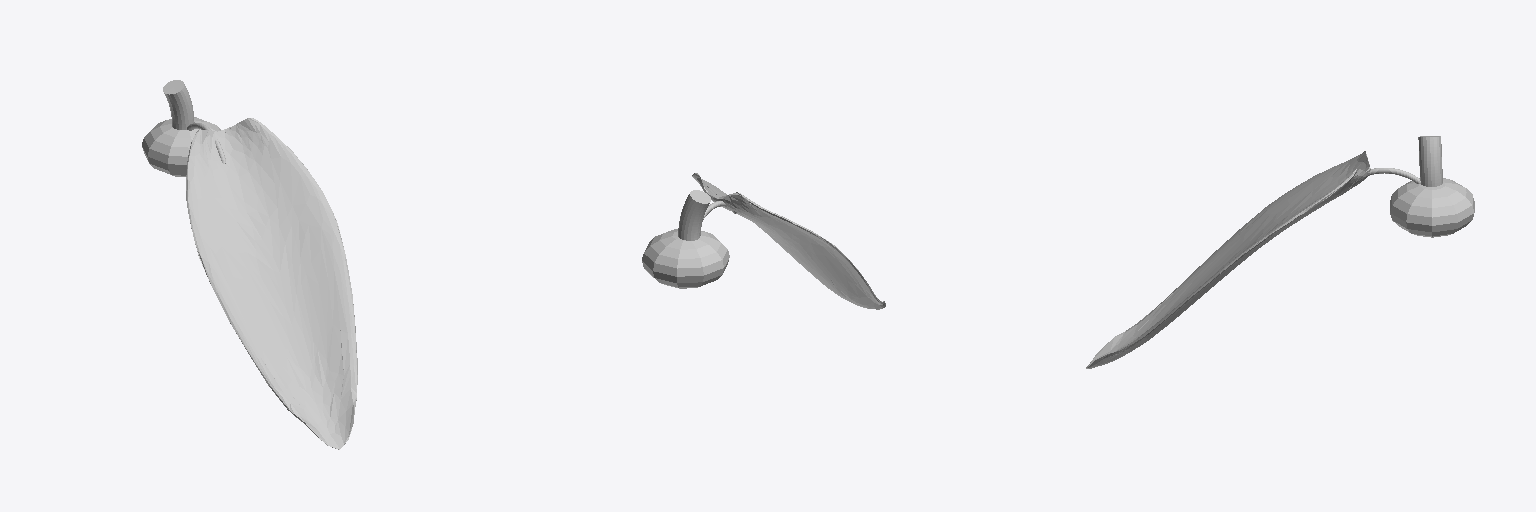
File: OrangeTopper.obj
3 views of the same model, side by side, from view 1: azimuth 30°, elevation 25°; view 2: azimuth 150°, elevation 25°; view 3: azimuth 270°, elevation 25° (orthographic).
Parts seen in each view (by area): view 1: OrangeTopper:pCube1, OrangeTopper:pSphere2, OrangeTopper:pCylinder2; view 2: OrangeTopper:pCube1, OrangeTopper:pSphere2, OrangeTopper:pCylinder2; view 3: OrangeTopper:pCube1, OrangeTopper:pSphere2, OrangeTopper:pCylinder2.
Part boxes in pixels (bbox=[...]): OrangeTopper:pCube1: bbox=[186, 118, 357, 449]; OrangeTopper:pSphere2: bbox=[142, 117, 220, 176]; OrangeTopper:pCylinder2: bbox=[163, 80, 194, 129]; OrangeTopper:pCube1: bbox=[692, 173, 885, 309]; OrangeTopper:pSphere2: bbox=[642, 229, 729, 288]; OrangeTopper:pCylinder2: bbox=[678, 190, 710, 240]; OrangeTopper:pCube1: bbox=[1086, 151, 1370, 368]; OrangeTopper:pSphere2: bbox=[1390, 178, 1474, 237]; OrangeTopper:pCylinder2: bbox=[1418, 136, 1442, 186].
Bounding box in the file's own units: 1.47 × 2.67 × 3.94.